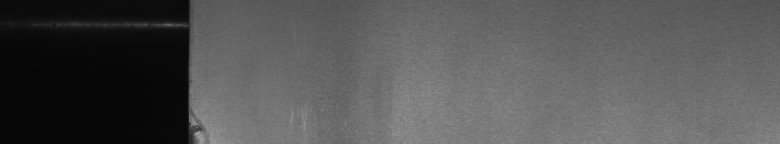hb: (200, 117, 212, 136)
